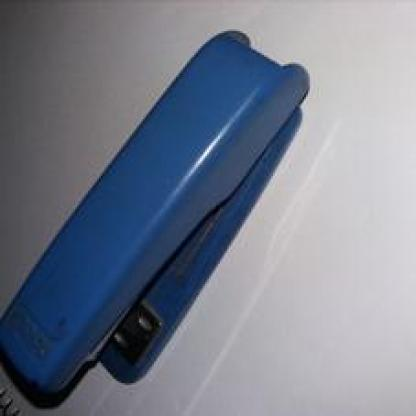stapler: (5, 24, 312, 412)
